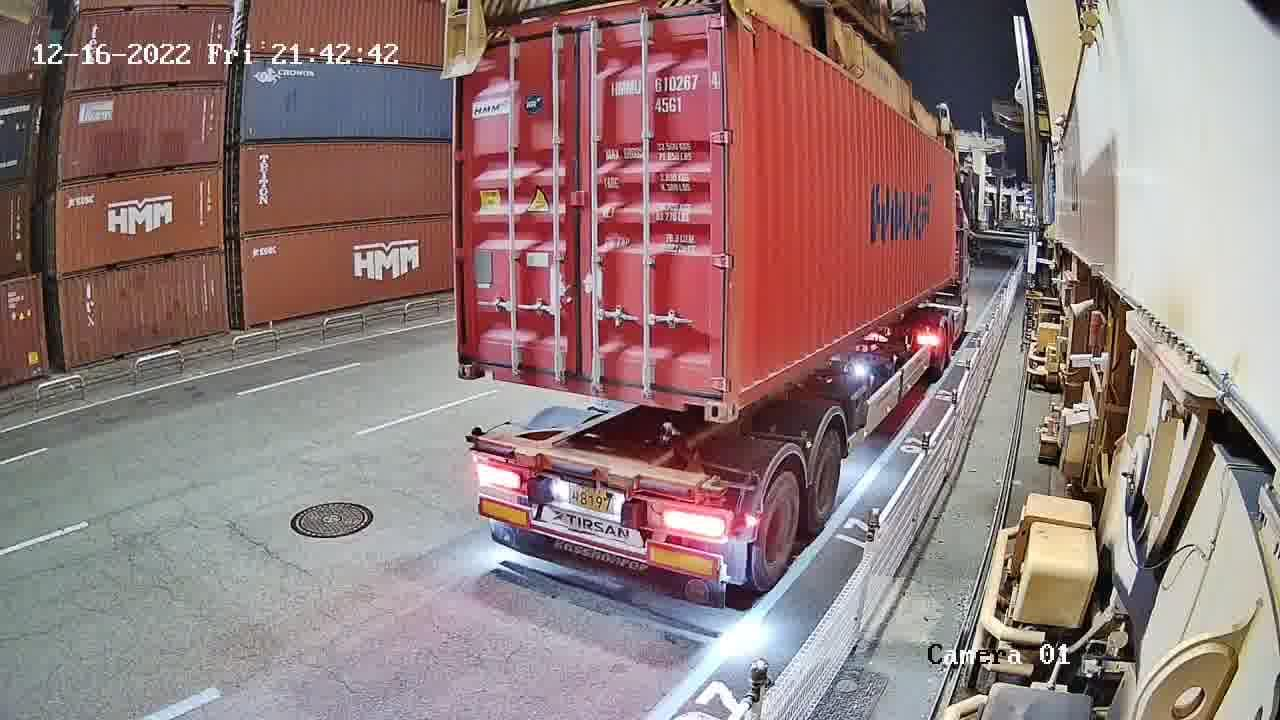Chassis: (466, 426, 725, 509)
Container: (456, 345, 727, 424)
Hole_L: (457, 345, 489, 383), (727, 369, 748, 423)
Hole_R: (697, 374, 728, 422)
Tire: (753, 471, 801, 590), (809, 435, 841, 532)
